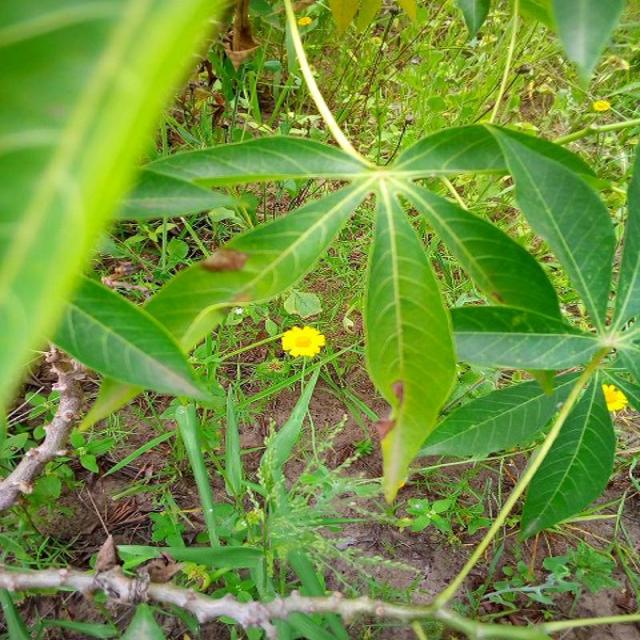cassava leaf: (360, 176, 458, 503), (48, 270, 218, 408), (518, 366, 616, 542)
